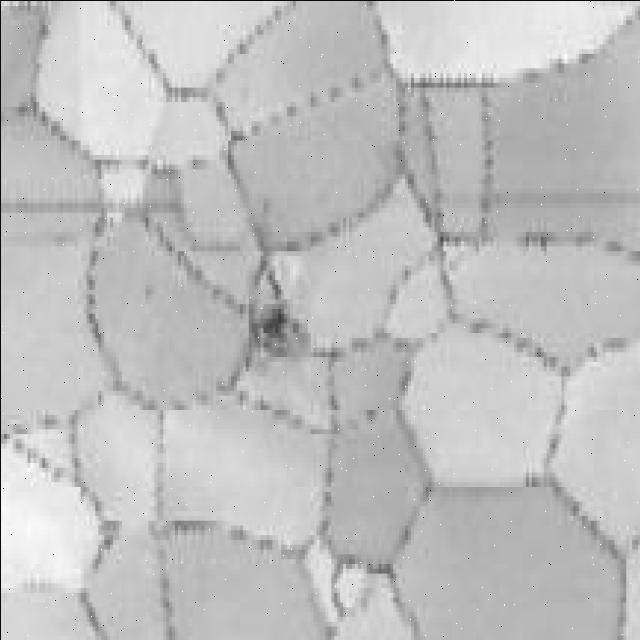good_void: (234, 282, 309, 370)
